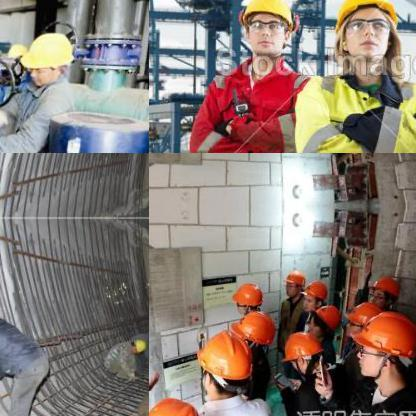Helmet: (328, 0, 401, 75), (226, 0, 298, 60), (355, 307, 415, 377), (195, 328, 249, 396), (24, 28, 72, 82), (228, 309, 278, 349), (284, 328, 320, 372), (346, 298, 380, 338), (306, 302, 340, 336), (368, 270, 400, 306), (232, 280, 264, 314), (300, 278, 326, 308), (281, 269, 305, 299), (128, 335, 146, 353)
